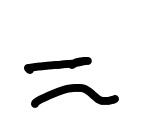eqv: (22, 55, 120, 110)
